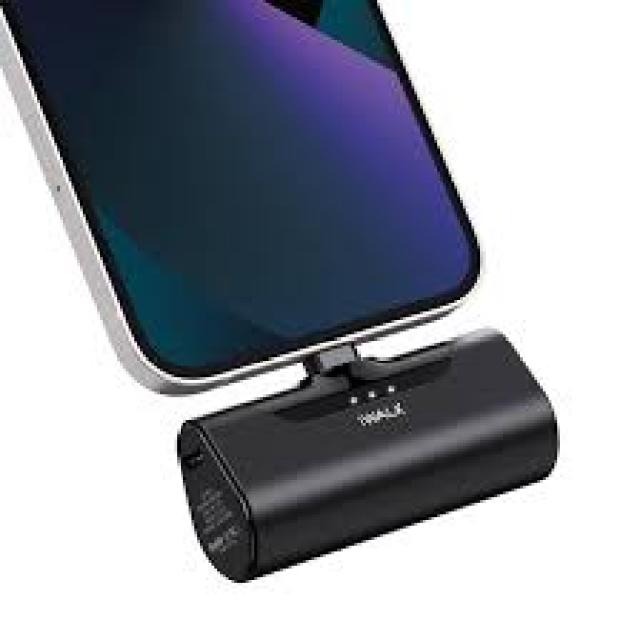power_bank: (173, 322, 568, 584)
